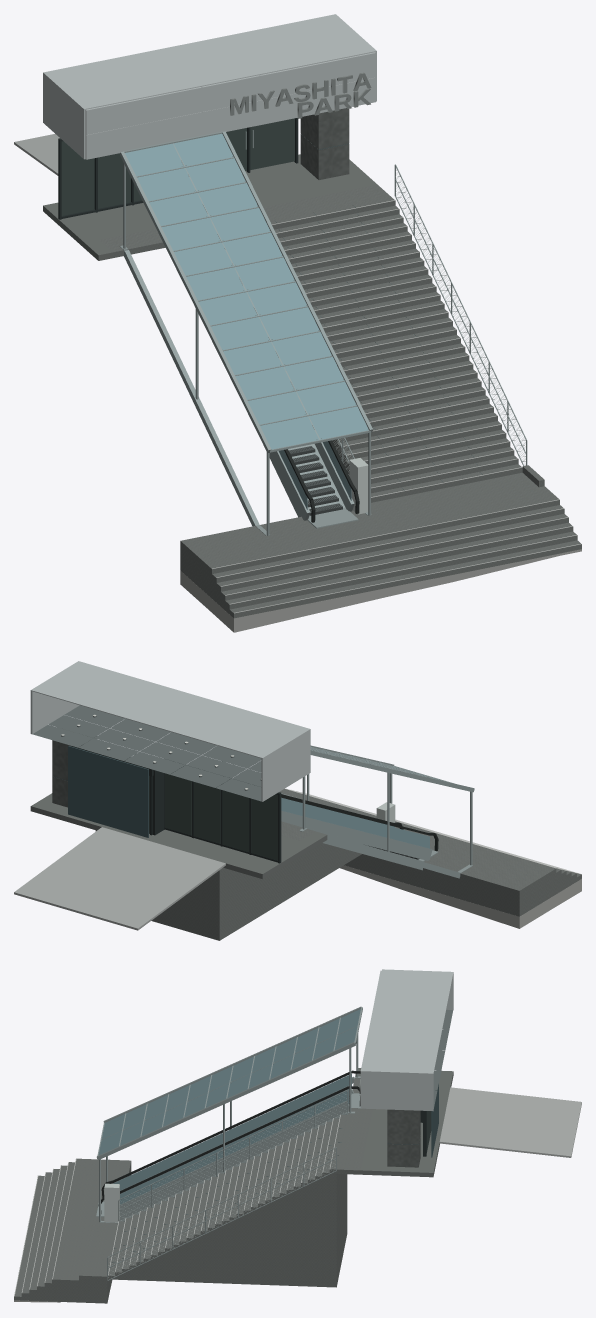
File: d11-miyashita-approach.glb
3 views of the same model, one above another, from view 1: azimuth 30°, elevation 25°; view 2: azimuth 150°, elevation 25°; view 3: azimuth 270°, elevation 25° (orthographic). The views are drawn at different scales.
Visible parts, largest first — view 1: B_00__B_opaque_bluegray_glass_P35, B_07__Neutral gray stair stone, INFERRED_reversible_receiving_transition, B_03__Estimated gray right pier finish; view 2: B_00__B_opaque_bluegray_glass_P35, B_07__Neutral gray stair stone, INFERRED_reversible_receiving_transition, B_03__Estimated gray right pier finish; view 3: B_07__Neutral gray stair stone, B_00__B_opaque_bluegray_glass_P35, INFERRED_reversible_receiving_transition, B_03__Estimated gray right pier finish.
Part boxes in pixels (box(x1,y1,x2,y2)): B_00__B_opaque_bluegray_glass_P35: box(43, 14, 581, 613); B_07__Neutral gray stair stone: box(43, 154, 581, 618); INFERRED_reversible_receiving_transition: box(14, 134, 581, 632); B_03__Estimated gray right pier finish: box(300, 108, 349, 179); B_00__B_opaque_bluegray_glass_P35: box(30, 661, 581, 878); B_07__Neutral gray stair stone: box(30, 789, 581, 940); INFERRED_reversible_receiving_transition: box(14, 827, 581, 930); B_03__Estimated gray right pier finish: box(52, 728, 96, 807); B_07__Neutral gray stair stone: box(14, 1068, 453, 1303); B_00__B_opaque_bluegray_glass_P35: box(14, 969, 453, 1296); INFERRED_reversible_receiving_transition: box(14, 1087, 581, 1302); B_03__Estimated gray right pier finish: box(387, 1109, 420, 1167).
Size of the model in its own units: 13.22 by 11.53 by 23.74.
4 materials, 4 textured.
